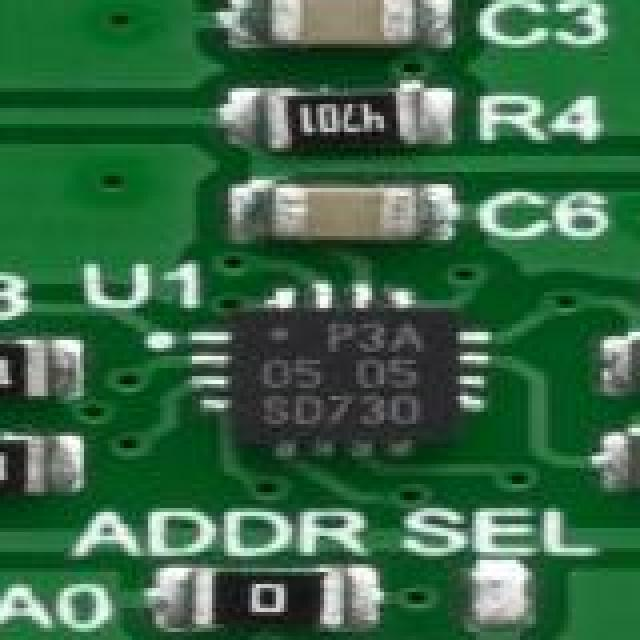IC: (236, 308, 478, 448)
capacitor: (268, 188, 436, 240), (276, 0, 428, 56)
resistor: (256, 88, 460, 152), (168, 568, 344, 630), (0, 432, 56, 488), (0, 340, 56, 392), (628, 328, 640, 396), (636, 440, 640, 488)
